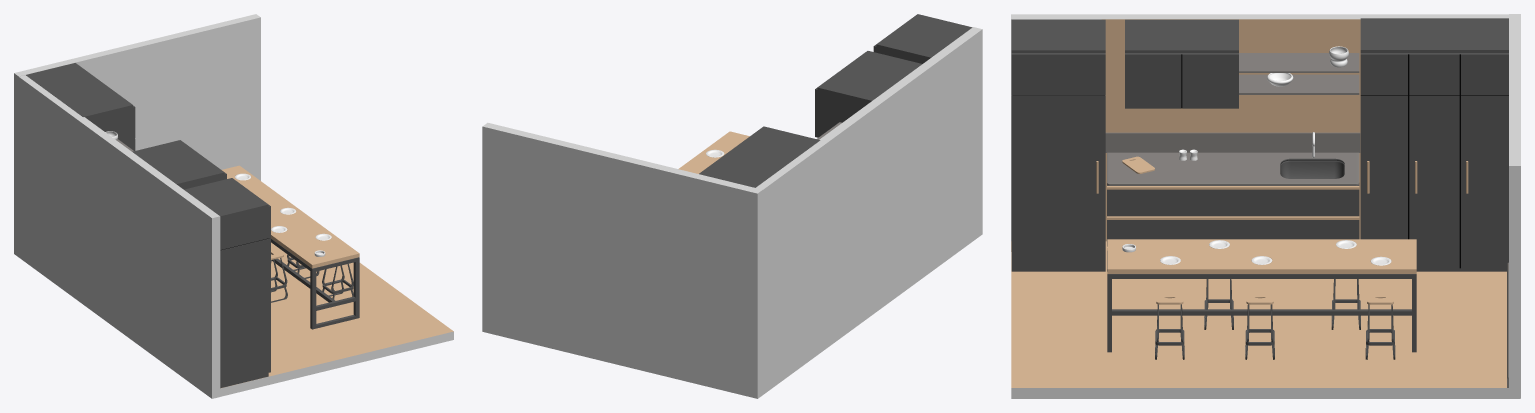
Rendered from modern_kitchen.glb.
3 views of the same model, side by side, from view 1: azimuth 30°, elevation 25°; view 2: azimuth 150°, elevation 25°; view 3: azimuth 270°, elevation 25° (orthographic). The views are drawn at different scales.
Visible parts, largest first — view 1: ROOM_27, fridge_3, Cube.001_29, cupboard_big_2, cupboard_up_1, chair_28, chair.003_32; view 2: ROOM_27, cupboard_up_1, cupboard_big_2, fridge_3, Cube.001_29; view 3: ROOM_27, cupboard_big_2, fridge_3, cupboard_down_0, Cube.001_29, cupboard_up_1, board_7, shelf_down_5, shelf_up_6, chair.001_30, chair_28, chair.002_31.
Part boxes in pixels (x1=…): ROOM_27: x1=14, y1=14, x2=453, y2=398; fridge_3: x1=184, y1=178, x2=270, y2=388; Cube.001_29: x1=222, y1=165, x2=359, y2=329; cupboard_big_2: x1=26, y1=63, x2=135, y2=150; cupboard_up_1: x1=132, y1=140, x2=226, y2=189; chair_28: x1=322, y1=264, x2=353, y2=299; chair.003_32: x1=271, y1=248, x2=287, y2=302; ROOM_27: x1=482, y1=27, x2=982, y2=398; cupboard_up_1: x1=815, y1=51, x2=922, y2=137; cupboard_big_2: x1=699, y1=126, x2=820, y2=187; fridge_3: x1=873, y1=14, x2=972, y2=63; Cube.001_29: x1=678, y1=131, x2=749, y2=173; ROOM_27: x1=1011, y1=14, x2=1520, y2=398; cupboard_big_2: x1=1360, y1=18, x2=1508, y2=271; fridge_3: x1=1011, y1=19, x2=1105, y2=271; cupboard_down_0: x1=1107, y1=152, x2=1359, y2=271; Cube.001_29: x1=1107, y1=239, x2=1416, y2=352; cupboard_up_1: x1=1125, y1=19, x2=1238, y2=108; board_7: x1=1105, y1=132, x2=1360, y2=152; shelf_down_5: x1=1239, y1=74, x2=1359, y2=94; shelf_up_6: x1=1239, y1=53, x2=1359, y2=72; chair.001_30: x1=1245, y1=292, x2=1274, y2=359; chair_28: x1=1155, y1=292, x2=1184, y2=359; chair.002_31: x1=1365, y1=292, x2=1395, y2=359.
Size of the model in its own units: 6.01 by 4.29 by 8.51.
